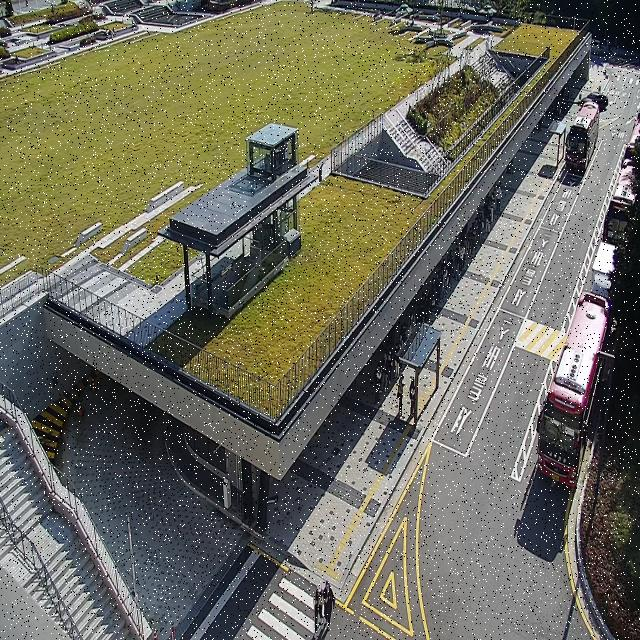queue: (414, 180, 502, 428)
